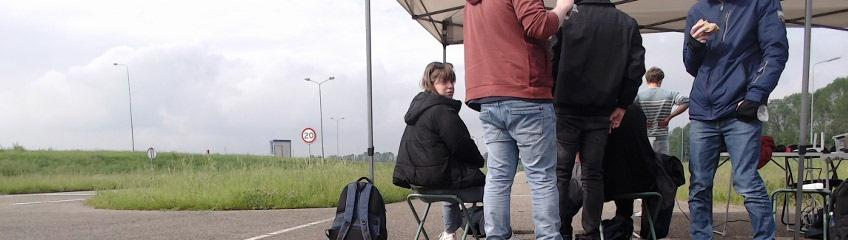Speed-limit-20km-h-: (301, 128, 317, 144)
